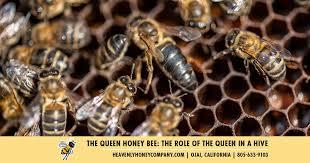Queen-Bee: (128, 14, 205, 94)
worker-bee: (222, 25, 290, 81), (84, 78, 147, 137), (36, 59, 70, 138), (136, 93, 191, 139)
